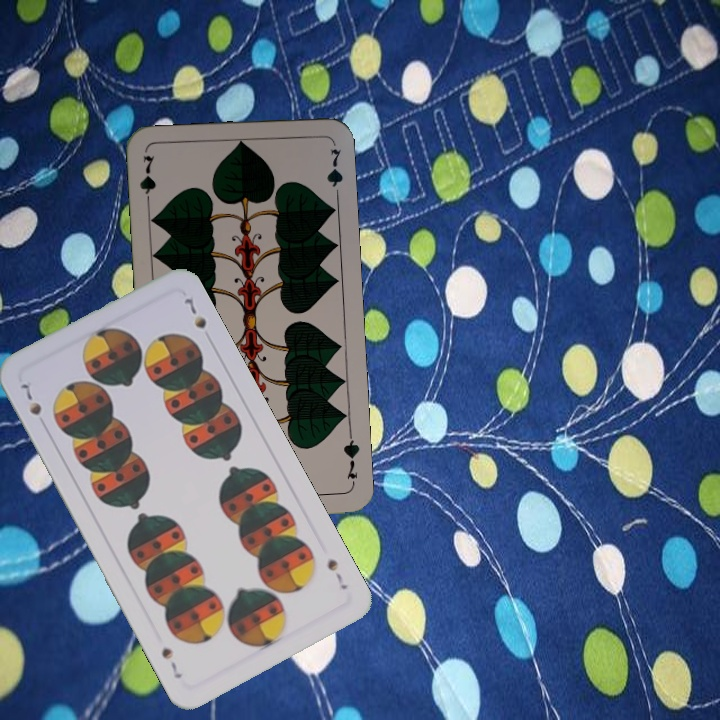G7: (136, 151, 159, 210), (340, 430, 362, 489)
S7: (16, 379, 45, 418), (323, 555, 351, 593)
